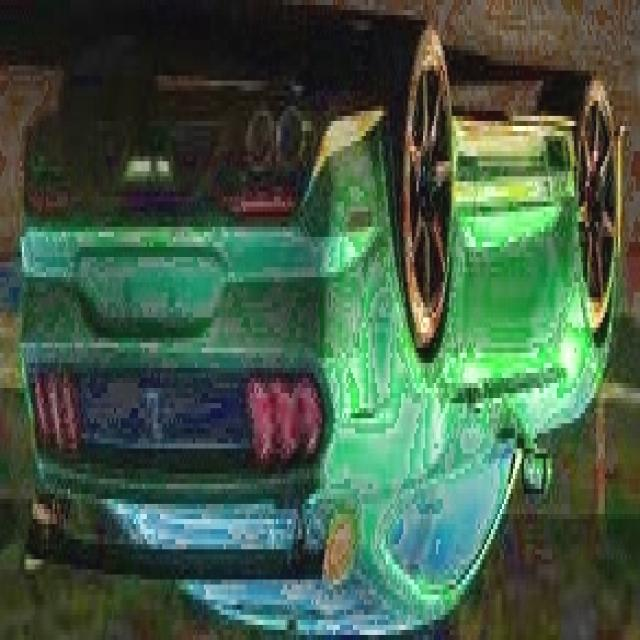green: (20, 22, 622, 638)
